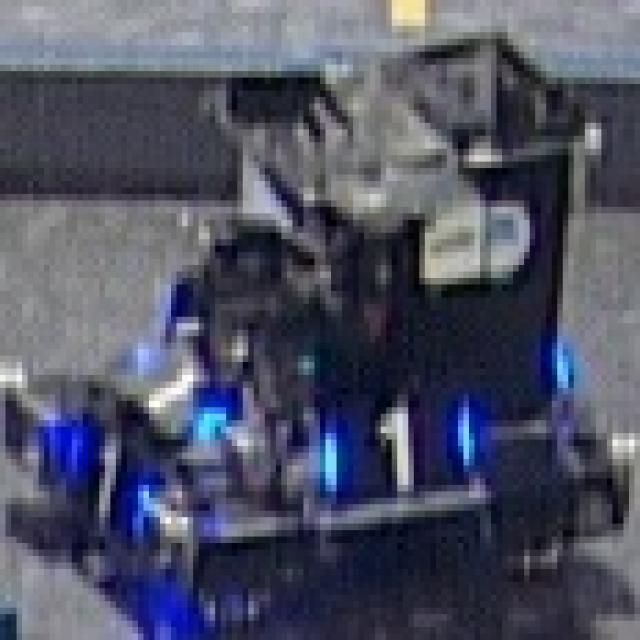B1: (326, 394, 474, 498), (116, 336, 232, 453), (55, 414, 155, 543)
